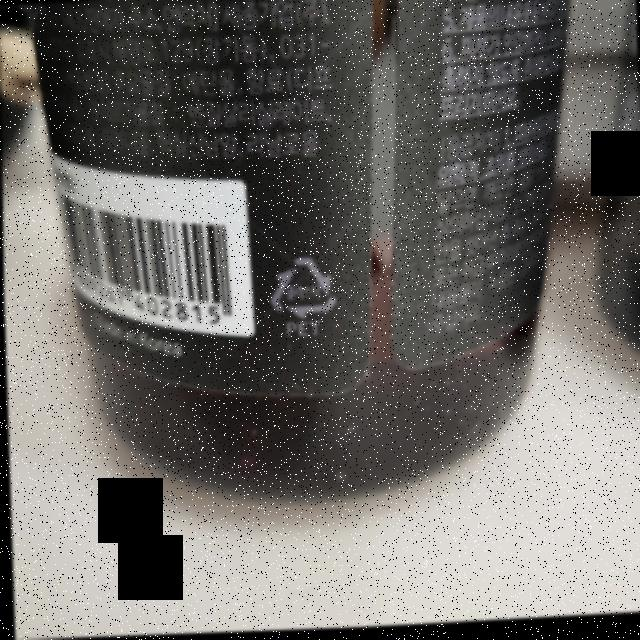Plastic: (264, 255, 338, 326)
